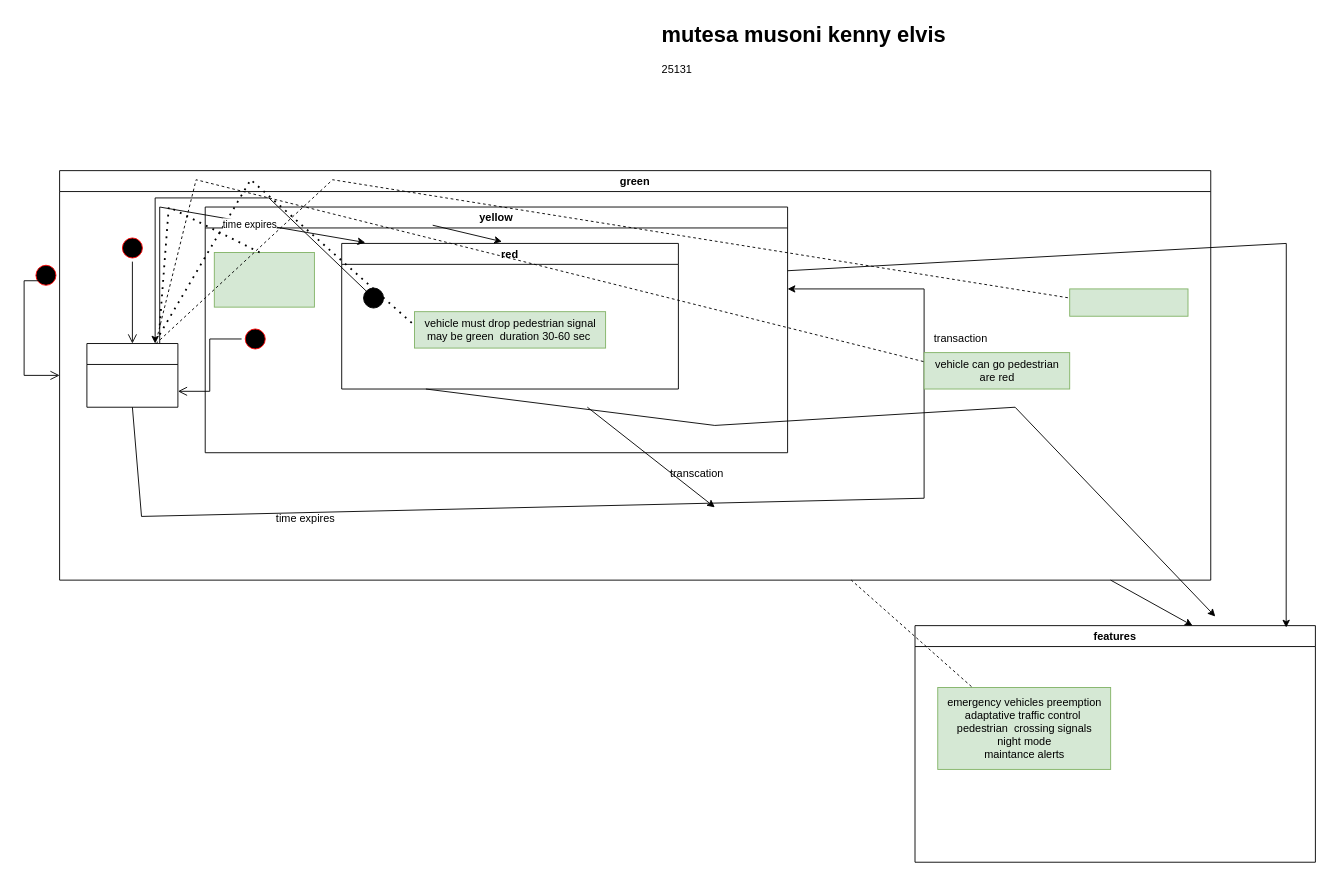
Image size: 1331x878. Some labels were removed from this diagram. Each missing label, with the centre of its shape:
active: point (132, 375)
duration :30-60 secs: point (1128, 302)
prepare to stop duration 3-5 secs: point (263, 279)
